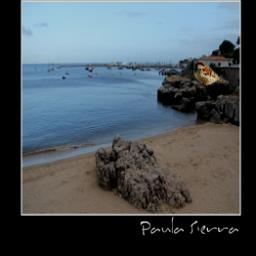Sparrow: (193, 61, 229, 87)
